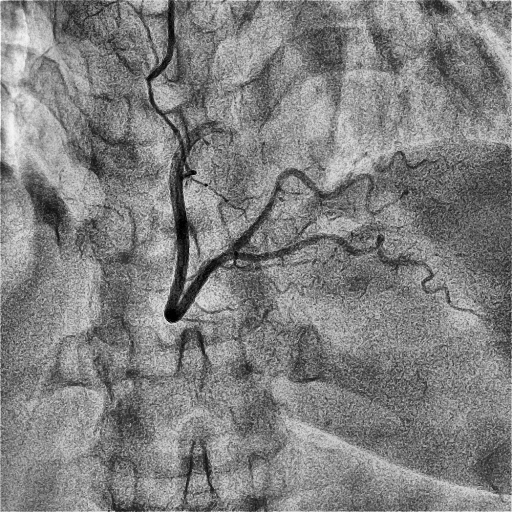pborca: (231, 169, 406, 252)
pda: (229, 232, 494, 320)
rca: (164, 120, 237, 323)
